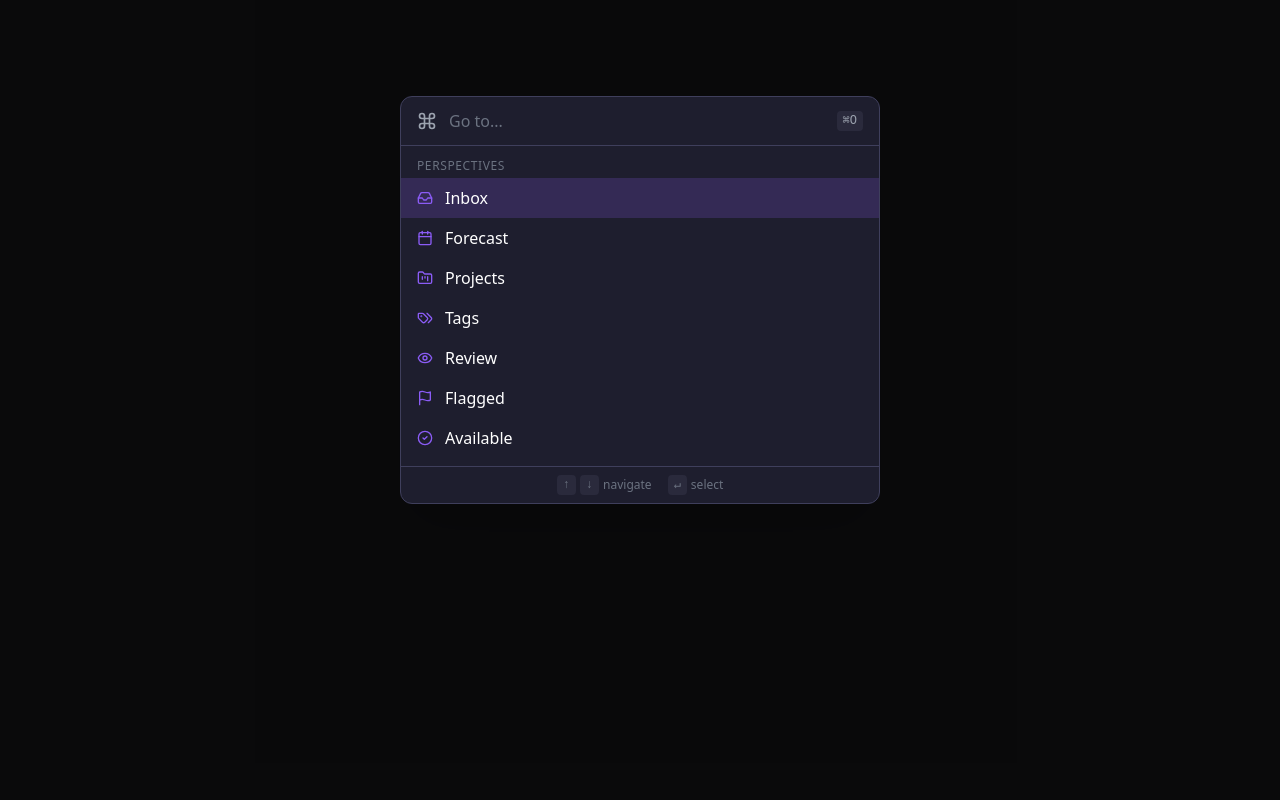
it: QuickOpen › should filter results when typing
The image size is (1280, 800).
In the field with placeholder "Go to...": (637, 121) top-left (449, 109), bottom-right (825, 133), type "work"
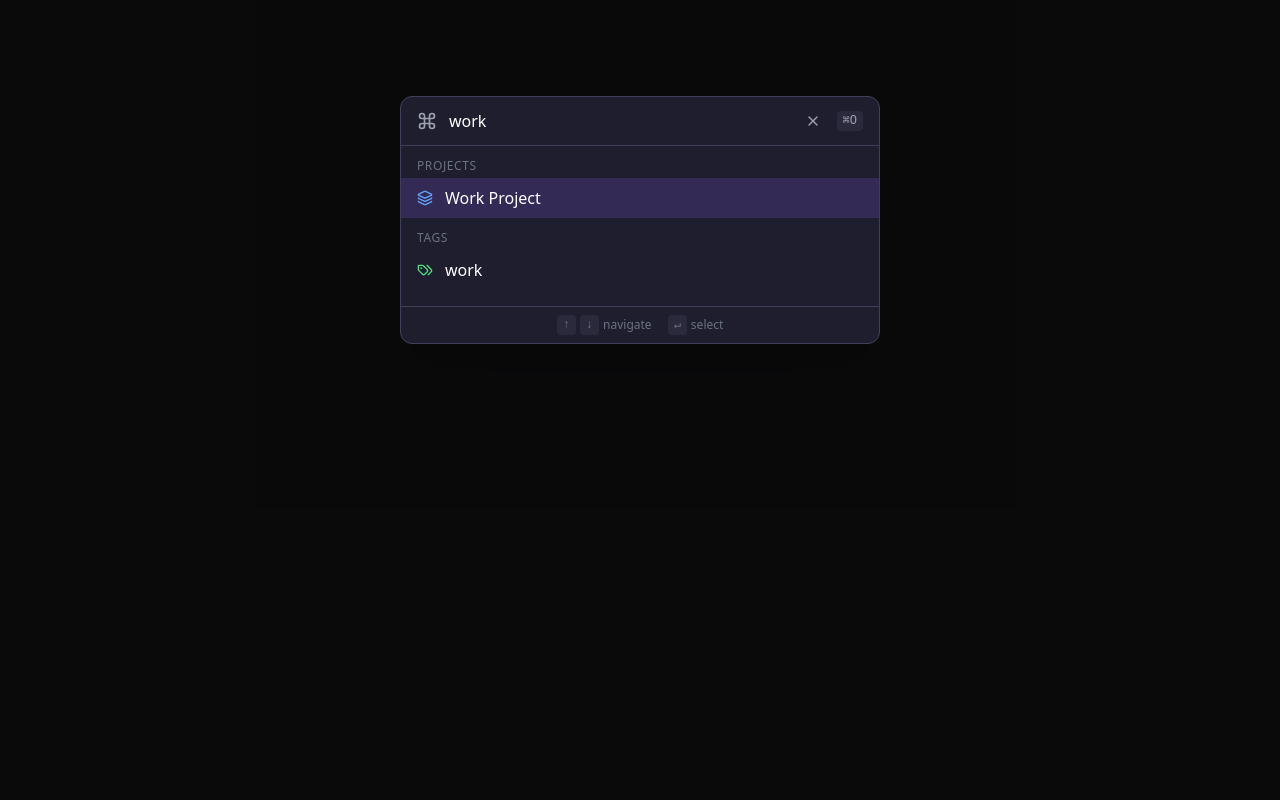
Check: the text "Home Project" is not shown
Check: the text "Work Project" is shown, box top-left (445, 186), bottom-right (541, 210)
Check: the text "work" is shown, box top-left (445, 258), bottom-right (482, 282)
